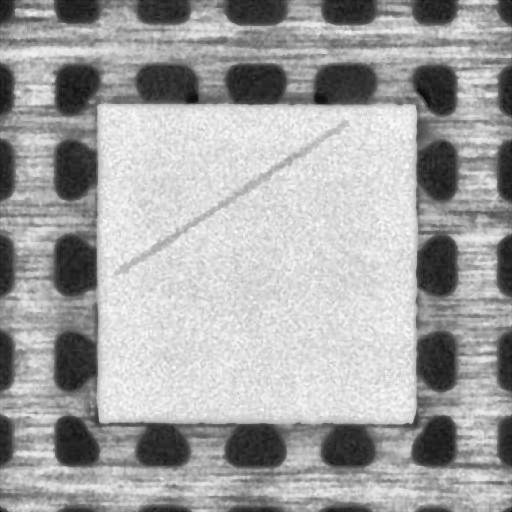DIE_CRACK: (115, 122, 344, 274)
